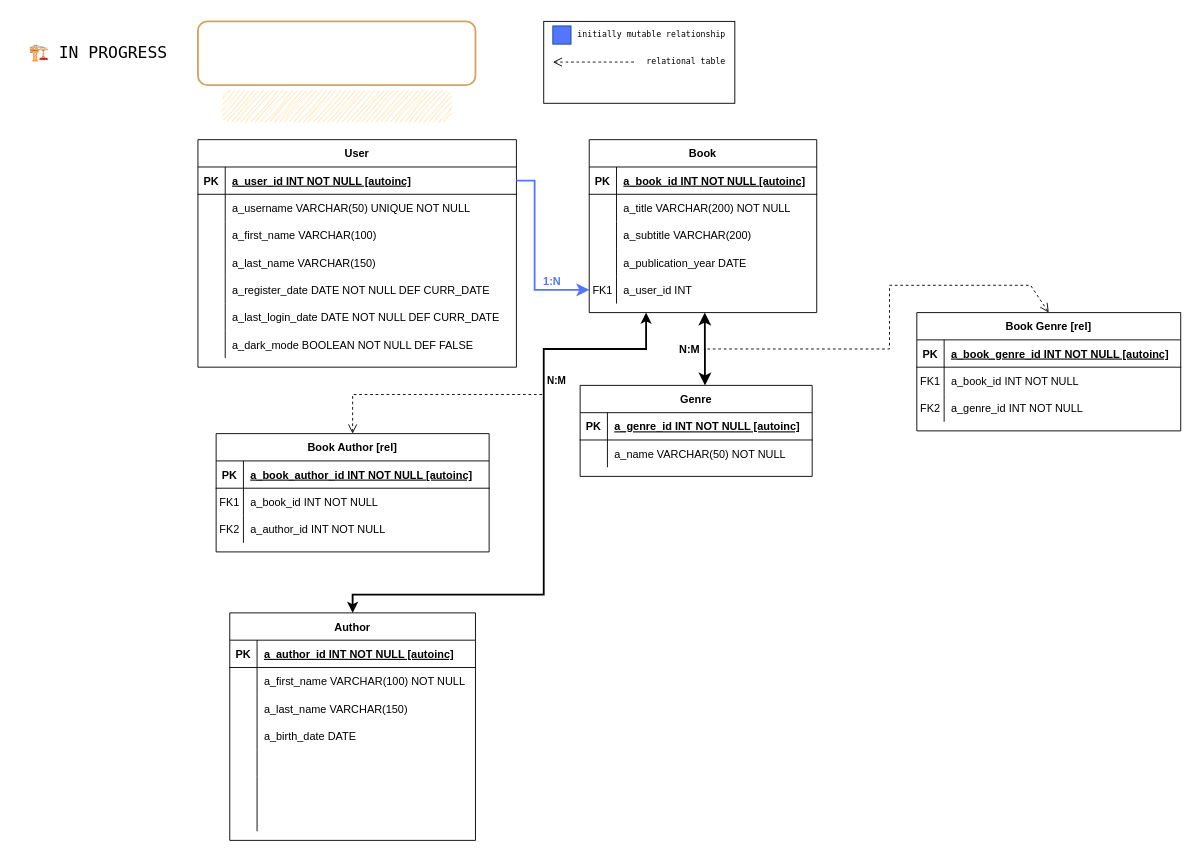
The diagram is 1197 pixels wide and 856 high, and some of its shapes have lost their labels. Each missing label, with the centre of its shape:
"*: very long term... cloud database [?]" goes at (x=336, y=105).
"tesArte DB [Local - SQLite]*" goes at (x=336, y=53).
